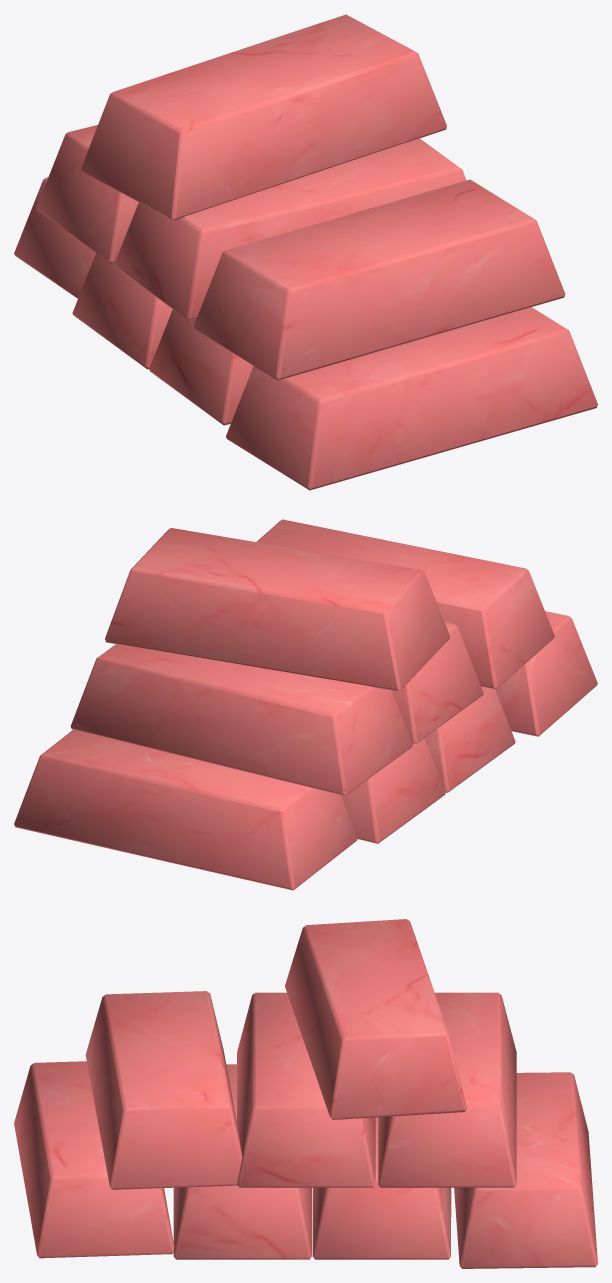
File: o_mdl_env_propIngots_c-transformed.glb
3 renders of one model, top to bottom at view 1: azimuth 30°, elevation 25°; view 2: azimuth 150°, elevation 25°; view 3: azimuth 270°, elevation 25°, orthographic. The views are drawn at different scales.
Visible parts, largest first — view 1: default; view 2: default; view 3: default.
Part boxes in pixels (<box>): default: <box>14,14,597,490</box>; default: <box>14,519,597,890</box>; default: <box>14,919,597,1268</box>.
Size of the model in its own units: 0.3952 by 0.2656 by 0.6547.
Materials: 1 (1 with a texture image).
